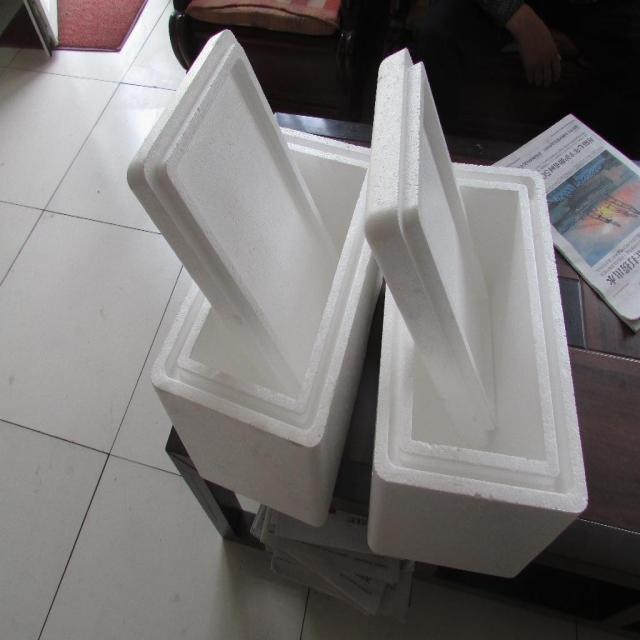styrofoam: (126, 27, 383, 528), (362, 46, 588, 579)
